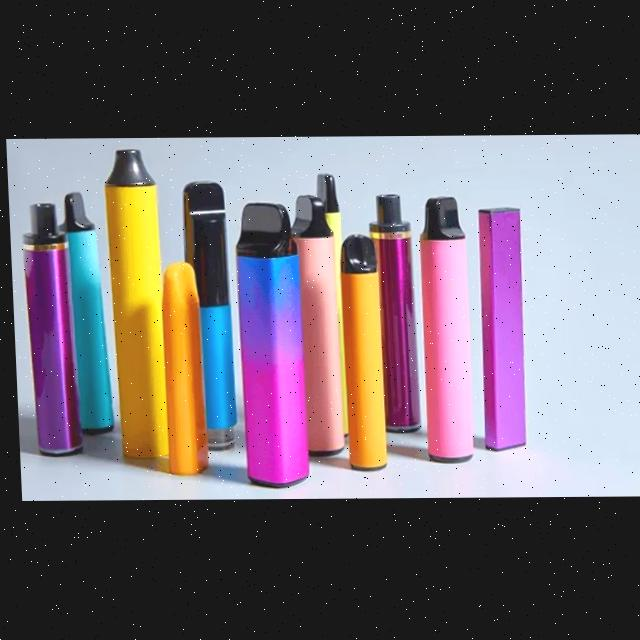vape: (233, 202, 306, 491), (102, 149, 166, 460), (18, 202, 79, 457), (178, 181, 234, 453), (416, 197, 471, 466), (288, 194, 341, 458), (55, 191, 111, 436), (472, 208, 527, 454), (366, 194, 418, 435), (336, 234, 383, 474), (157, 262, 205, 478), (314, 175, 346, 440)
